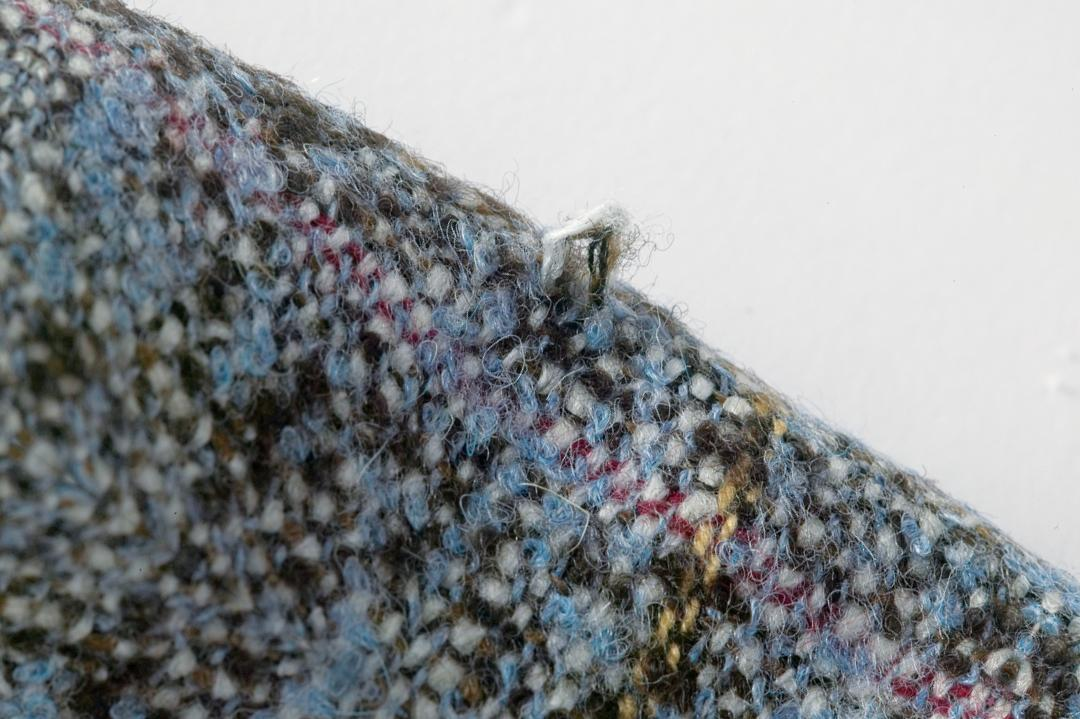snag: (523, 192, 649, 336)
